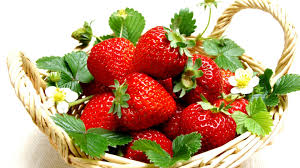strawberry: (114, 73, 176, 129), (181, 101, 238, 159), (86, 37, 141, 92), (133, 26, 189, 78), (171, 54, 223, 101), (78, 93, 121, 134), (127, 130, 174, 165)
